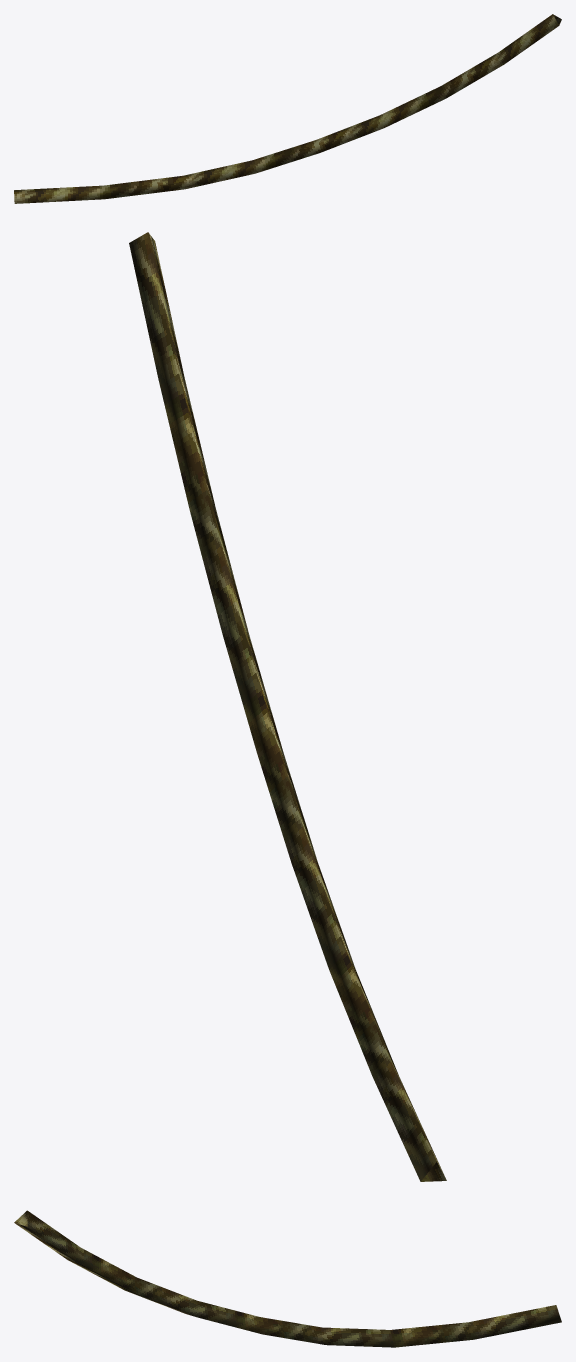
Rendered from OVERHILL_A_01_BRIDGE_ROPE_10.fbx.
3 views of the same model, one above another, from view 1: azimuth 30°, elevation 25°; view 2: azimuth 150°, elevation 25°; view 3: azimuth 270°, elevation 25° (orthographic). The views are drawn at different scales.
Parts seen in each view (by area): view 1: OVERHILL_A_01_BRIDGE_ROPE_10; view 2: OVERHILL_A_01_BRIDGE_ROPE_10; view 3: OVERHILL_A_01_BRIDGE_ROPE_10.
Boxes of the visible parts, bbox=[...] form: OVERHILL_A_01_BRIDGE_ROPE_10: bbox=[14, 14, 561, 203]; OVERHILL_A_01_BRIDGE_ROPE_10: bbox=[129, 232, 446, 1181]; OVERHILL_A_01_BRIDGE_ROPE_10: bbox=[14, 1210, 561, 1347].
Size of the model in its own units: 14350 by 9640 by 14375.
Materials: 1 (1 with a texture image).
